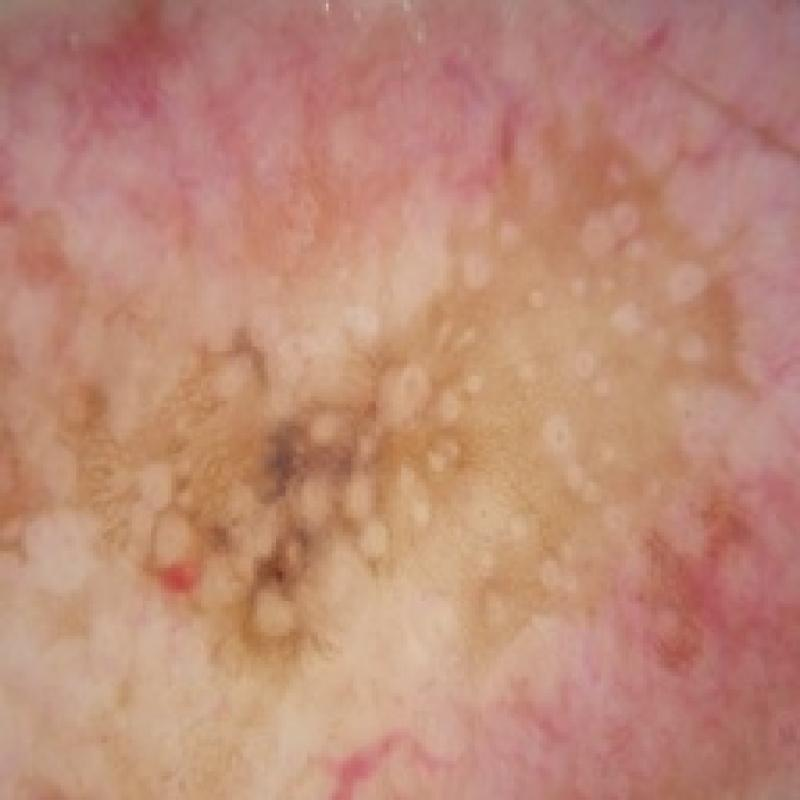malignant: (13, 36, 762, 761)
